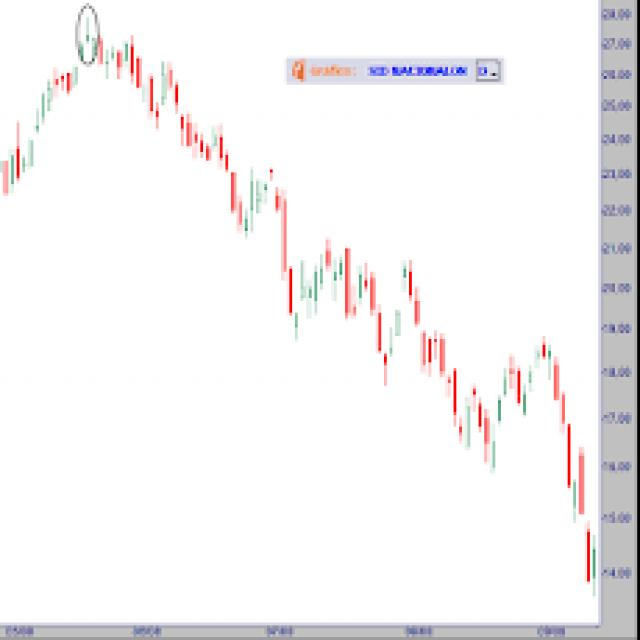bandeira_baixa: (269, 185, 345, 339)
